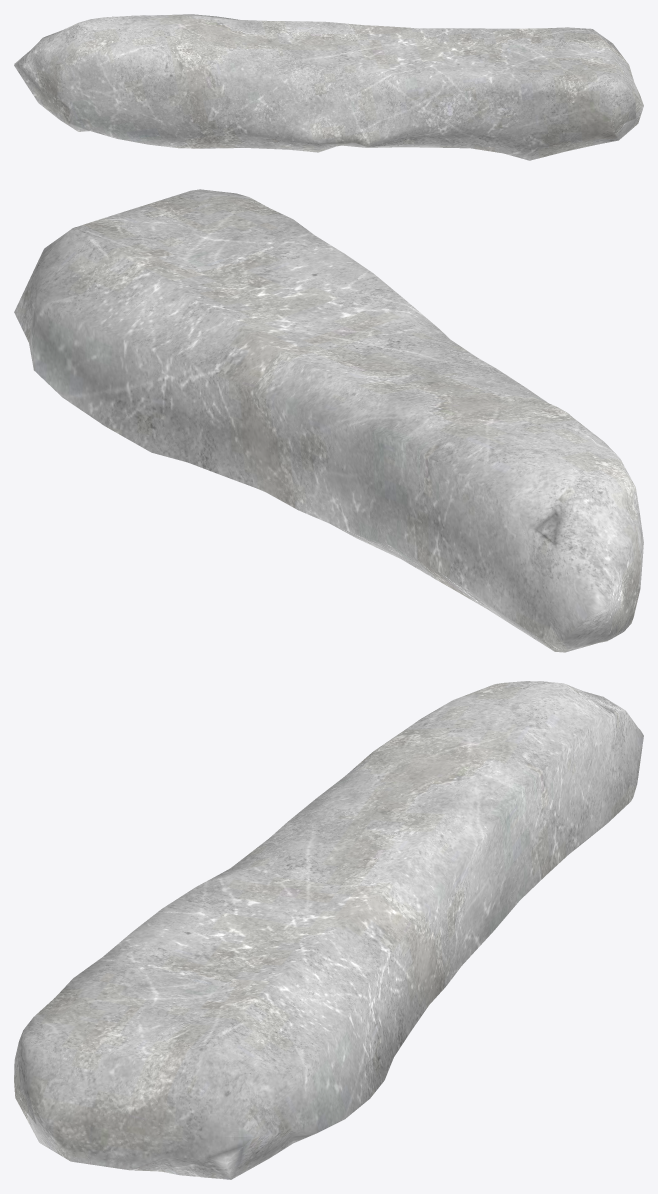
The model's file is Masso_03.FBX.
3 views of the same model, one above another, from view 1: azimuth 30°, elevation 25°; view 2: azimuth 150°, elevation 25°; view 3: azimuth 270°, elevation 25° (orthographic). The views are drawn at different scales.
Visible parts, largest first — view 1: Masso_012; view 2: Masso_012; view 3: Masso_012.
Part boxes in pixels (<box>): Masso_012: <box>14,14,643,160</box>; Masso_012: <box>14,189,643,652</box>; Masso_012: <box>14,681,643,1179</box>.
Size of the model in its own units: 4.78 by 1.13 by 3.39.
1 material, 1 textured.
